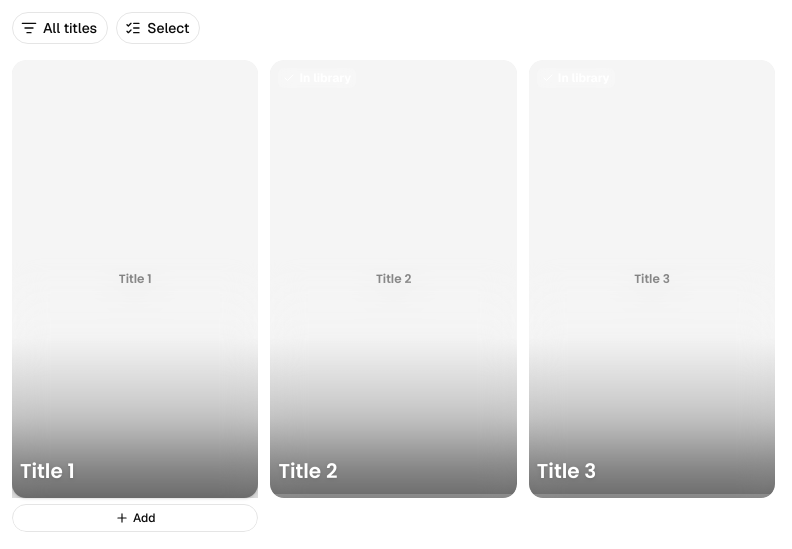
filtering the grid › narrows the cards and says how many are left
Click the button with aria-label "Filters:".
click(60, 28)  # box [12,12,108,44]
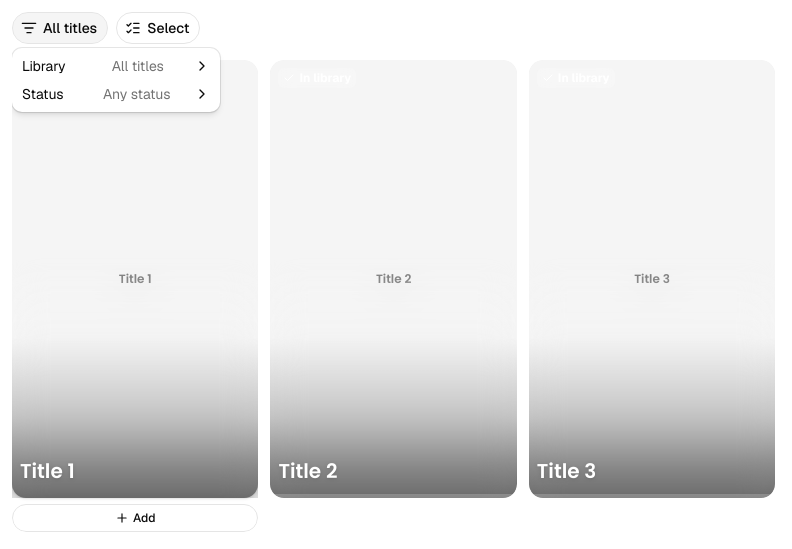
Click the menu item "Library All titles".
click(116, 66)  # box [16,52,216,80]
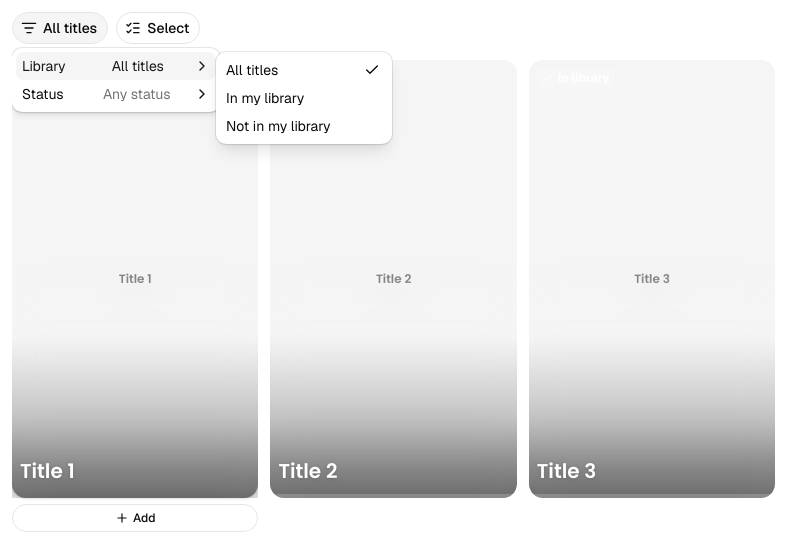
Click the menu item "Not in my library".
click(278, 126)  # box [226,117,331,135]
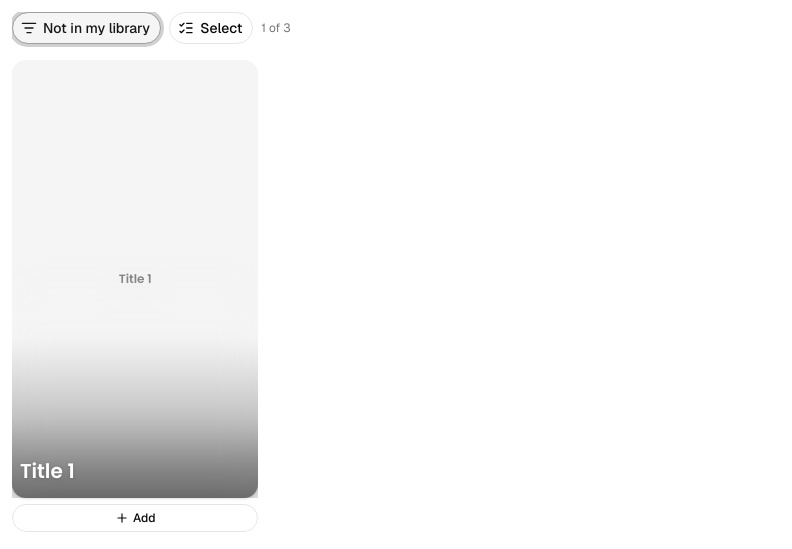
Check: the heading "Title 1" is shown, box [20,459,75,484]
Check: the link "Title 2" is gone
Check: the text "1 of 3" is shown, box [261,20,290,36]
